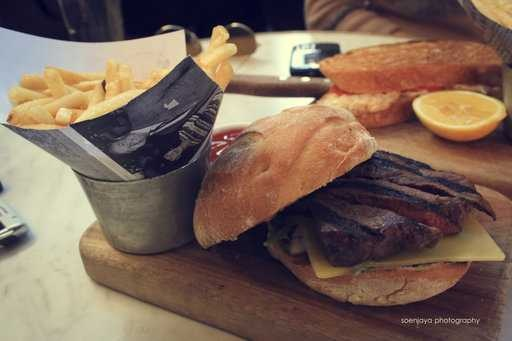hamburger: (207, 113, 496, 290)
